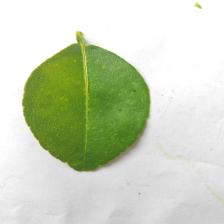greening: (47, 72, 123, 139)
